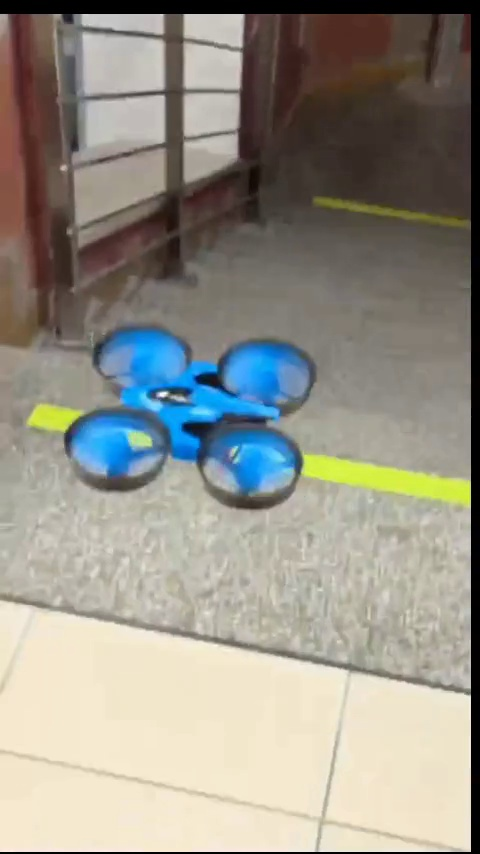drone: (56, 333, 313, 499)
